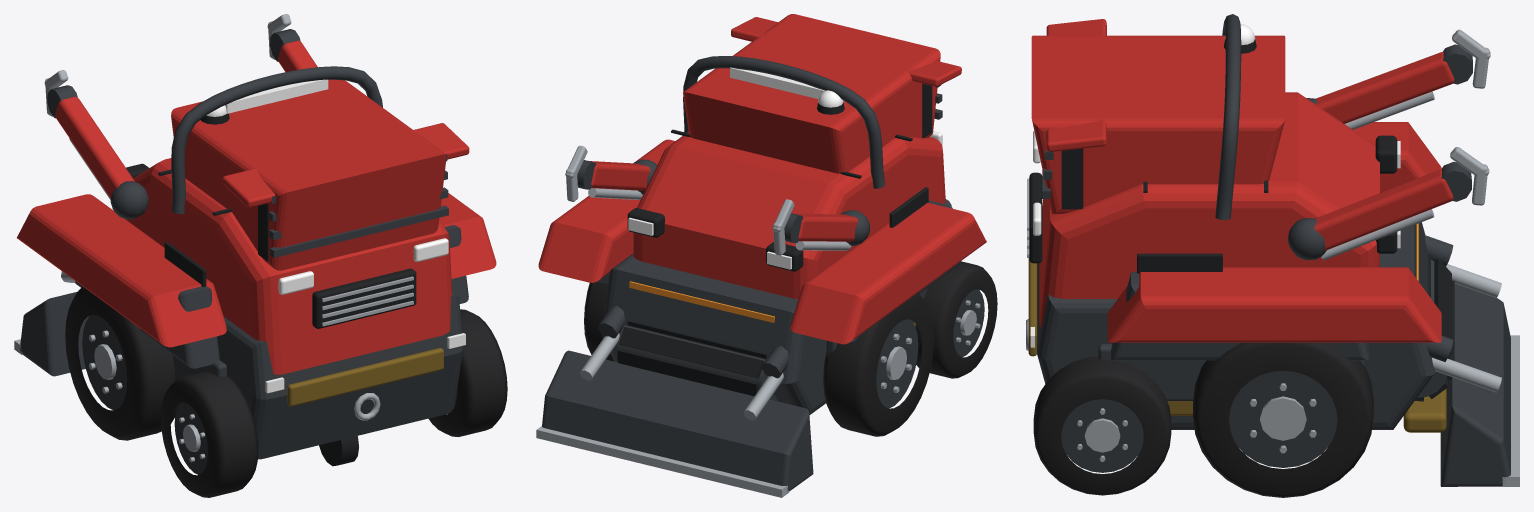
Rendered from Machine_racer_T3.glb.
3 renders of one model, left to right at view 1: azimuth 30°, elevation 25°; view 2: azimuth 150°, elevation 25°; view 3: azimuth 270°, elevation 25°, orthographic. The views are drawn at different scales.
Visible parts, largest first — view 1: Tier2_Parts_MAT_Player_Shell_18, Tier1_Parts_MAT_Player_Shell_9, Tier1_Parts_MAT_Player_Gunmetal_8, Axle_Rear_MAT_tread_14, Axle_Front_MAT_tread_5, Tier1_Parts_MAT_darkTrim_10, Tier2_Parts_MAT_Player_Gunmetal_19, Tier3_Parts_MAT_Player_Gunmetal_33, Tier1_Parts_MAT_Player_Hazard_12, Arm_L_Boom_23, Axle_Front_MAT_Player_Gunmetal_6, Tier1_Parts_MAT_steel_11 (+7 smaller); view 2: Tier2_Parts_MAT_Player_Shell_18, Tier1_Parts_MAT_Player_Shell_9, Tier2_Parts_MAT_Player_Gunmetal_19, Tier1_Parts_MAT_Player_Gunmetal_8, Axle_Front_MAT_tread_5, Intake_Roller_MAT_darkTrim_1, Axle_Rear_MAT_tread_14, Tier2_Parts_MAT_steel_21, Tier3_Parts_MAT_Player_Gunmetal_33, Tier1_Parts_MAT_darkTrim_10, Axle_Front_MAT_Player_Gunmetal_6, Arm_L_Boom_23 (+13 smaller); view 3: Tier2_Parts_MAT_Player_Shell_18, Tier1_Parts_MAT_Player_Shell_9, Axle_Front_MAT_tread_5, Tier1_Parts_MAT_Player_Gunmetal_8, Tier2_Parts_MAT_Player_Gunmetal_19, Axle_Rear_MAT_tread_14, Axle_Front_MAT_Player_Gunmetal_6, Tier3_Parts_MAT_Player_Gunmetal_33, Tier1_Parts_MAT_darkTrim_10, Arm_R_Boom_28, Arm_L_Boom_23, Axle_Rear_MAT_Player_Gunmetal_15 (+14 smaller).
Part boxes in pixels (x1,y1,x2,y2): Tier2_Parts_MAT_Player_Shell_18: (17,79,496,347); Tier1_Parts_MAT_Player_Shell_9: (125,123,469,374); Tier1_Parts_MAT_Player_Gunmetal_8: (75,225,468,459); Axle_Rear_MAT_tread_14: (161,309,507,497); Axle_Front_MAT_tread_5: (65,286,179,440); Tier1_Parts_MAT_darkTrim_10: (126,163,416,466); Tier2_Parts_MAT_Player_Gunmetal_19: (20,154,448,376); Tier3_Parts_MAT_Player_Gunmetal_33: (171,66,382,379); Tier1_Parts_MAT_Player_Hazard_12: (287,348,443,406); Arm_L_Boom_23: (55,96,134,198); Axle_Front_MAT_Player_Gunmetal_6: (82,315,127,410); Tier1_Parts_MAT_steel_11: (322,276,413,420); Tier2_Parts_MAT_Player_Shell_18: (538,14,986,344); Tier1_Parts_MAT_Player_Shell_9: (633,17,961,299); Tier2_Parts_MAT_Player_Gunmetal_19: (542,84,942,491); Tier1_Parts_MAT_Player_Gunmetal_8: (597,199,961,415); Axle_Front_MAT_tread_5: (584,281,934,436); Intake_Roller_MAT_darkTrim_1: (617,320,767,396); Axle_Rear_MAT_tread_14: (915,261,997,378); Tier2_Parts_MAT_steel_21: (536,333,789,497); Tier3_Parts_MAT_Player_Gunmetal_33: (683,56,928,357); Tier1_Parts_MAT_darkTrim_10: (627,83,932,271); Axle_Front_MAT_Player_Gunmetal_6: (876,319,918,408); Arm_L_Boom_23: (795,214,858,241); Tier2_Parts_MAT_Player_Shell_18: (1031,35,1441,342); Tier1_Parts_MAT_Player_Shell_9: (1039,19,1379,327); Axle_Front_MAT_tread_5: (1193,342,1373,497); Tier1_Parts_MAT_Player_Gunmetal_8: (1037,222,1435,429); Tier2_Parts_MAT_Player_Gunmetal_19: (1042,131,1510,486); Axle_Rear_MAT_tread_14: (1033,356,1171,495); Axle_Front_MAT_Player_Gunmetal_6: (1229,370,1337,467); Tier3_Parts_MAT_Player_Gunmetal_33: (1098,14,1364,400); Tier1_Parts_MAT_darkTrim_10: (1029,135,1397,273); Arm_R_Boom_28: (1314,169,1453,250); Arm_L_Boom_23: (1316,52,1454,123); Axle_Rear_MAT_Player_Gunmetal_15: (1061,399,1143,472).
Bounding box in the file's own units: 1 × 0.9699 × 1.15.
